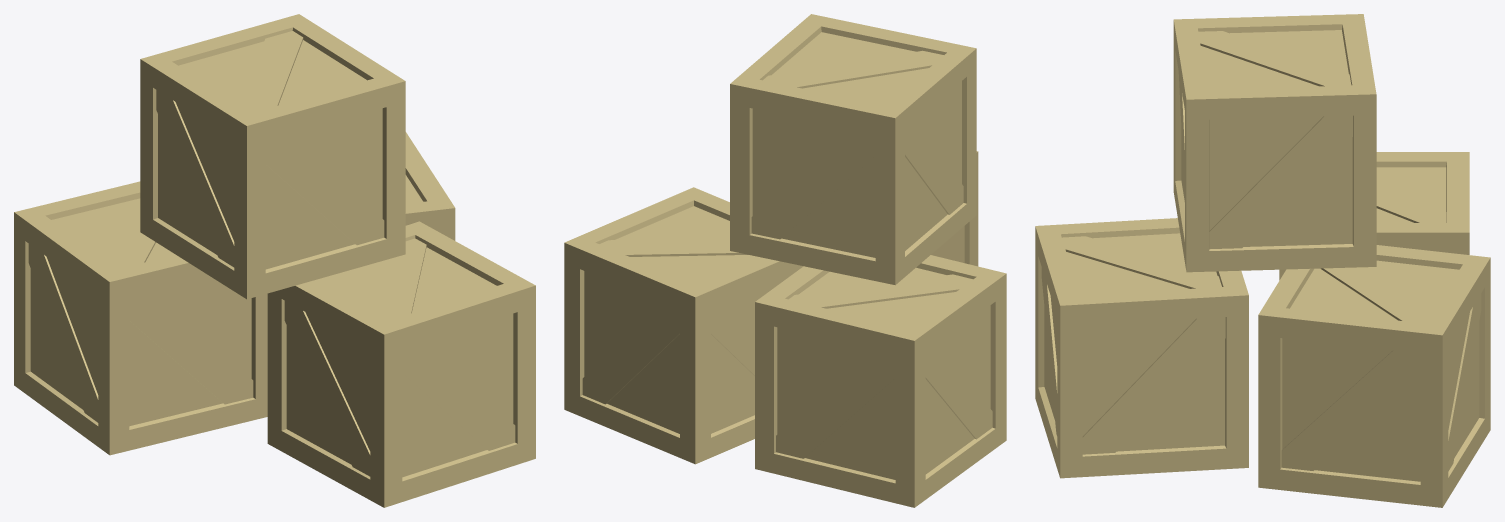
The model's file is Start.dae.
3 views of the same model, side by side, from view 1: azimuth 30°, elevation 25°; view 2: azimuth 150°, elevation 25°; view 3: azimuth 270°, elevation 25° (orthographic). The views are drawn at different scales.
Parts seen in each view (by area): view 1: Box.3, Box.2, Box, Box.1; view 2: Box.3, Box, Box.1, Box.2; view 3: Box.1, Box.3, Box.2, Box.
Part boxes in pixels (<box>): Box.3: <box>140,14,405,299</box>; Box.2: <box>267,221,535,507</box>; Box: <box>14,181,267,455</box>; Box.1: <box>405,132,455,240</box>; Box.3: <box>730,14,976,285</box>; Box: <box>755,255,1006,507</box>; Box.1: <box>564,187,803,464</box>; Box.2: <box>931,151,978,266</box>; Box.1: <box>1258,245,1490,507</box>; Box.3: <box>1173,14,1376,272</box>; Box.2: <box>1035,218,1248,478</box>; Box: <box>1279,152,1469,280</box>.
Bounding box in the file's own units: 228 × 201 × 239.
